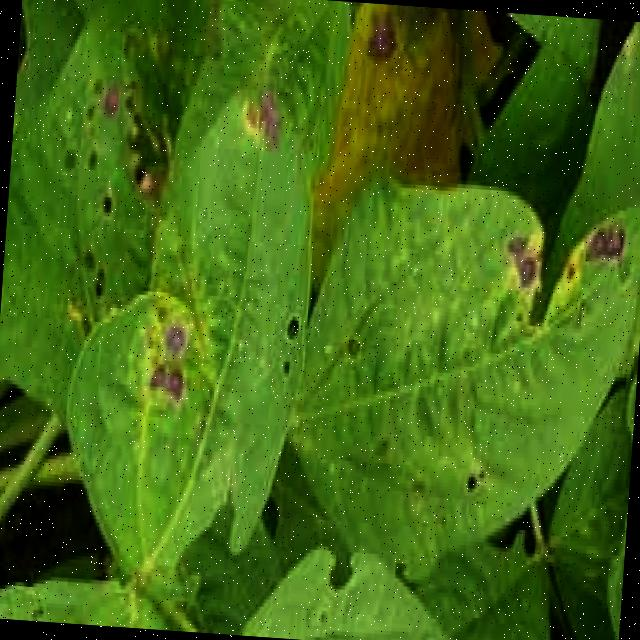leaf spot: (285, 166, 640, 557)
